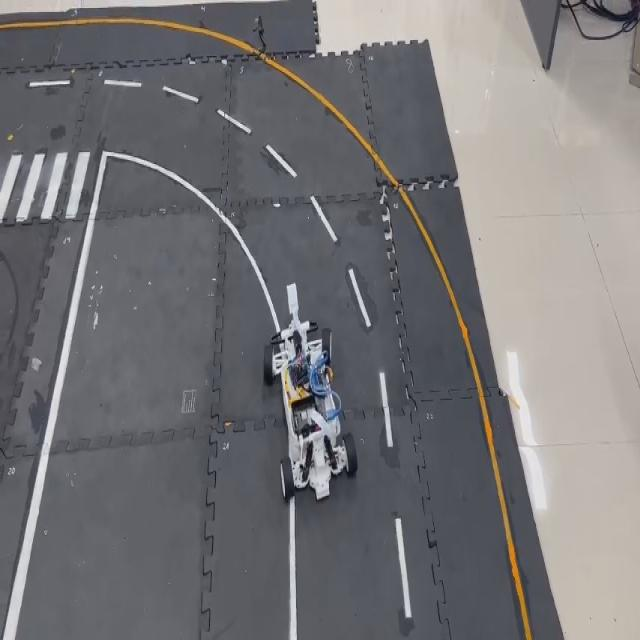SiCo-CAR: (262, 280, 358, 504)
